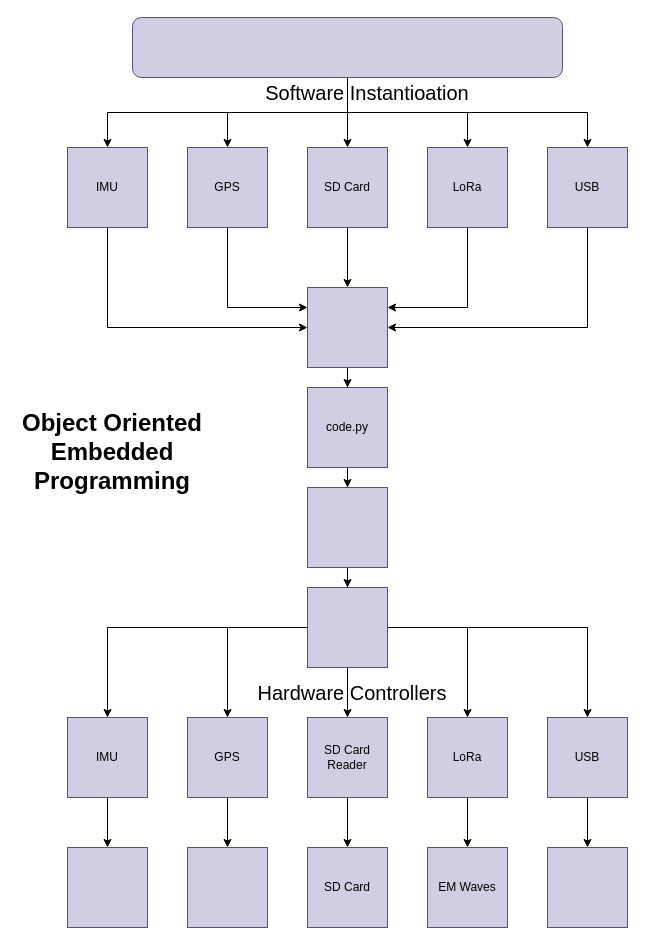
The diagram is 645 pixels wide and 945 high, and some of its shapes have lost their labels. The centre of each missing label's shape, as x and y in pixels:
"CircuitPython Libraries" goes at point 347,47.
"CircuitPython U2F firmware" goes at point 347,527.
"Instantiate Libraries for adafruit components" goes at point 347,327.
"RP2040" goes at point 347,627.
"Satellites" goes at point 227,887.
"Sensor" goes at point 107,887.
"USB Devices" goes at point 587,887.
